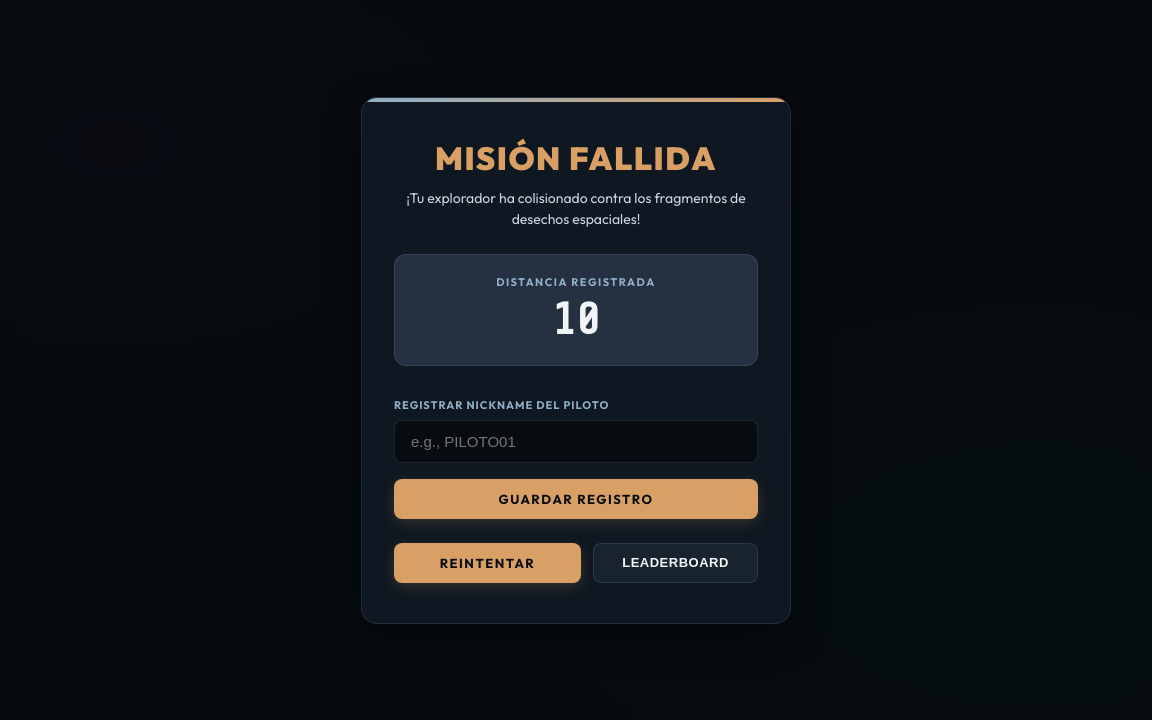
Test case: <GameOverModal /> › does not fall back on VALIDATION errors
Type "VALIDATED" into the field labelled "Registrar Nickname del Piloto" at (576, 441), box [394,420,758,462]
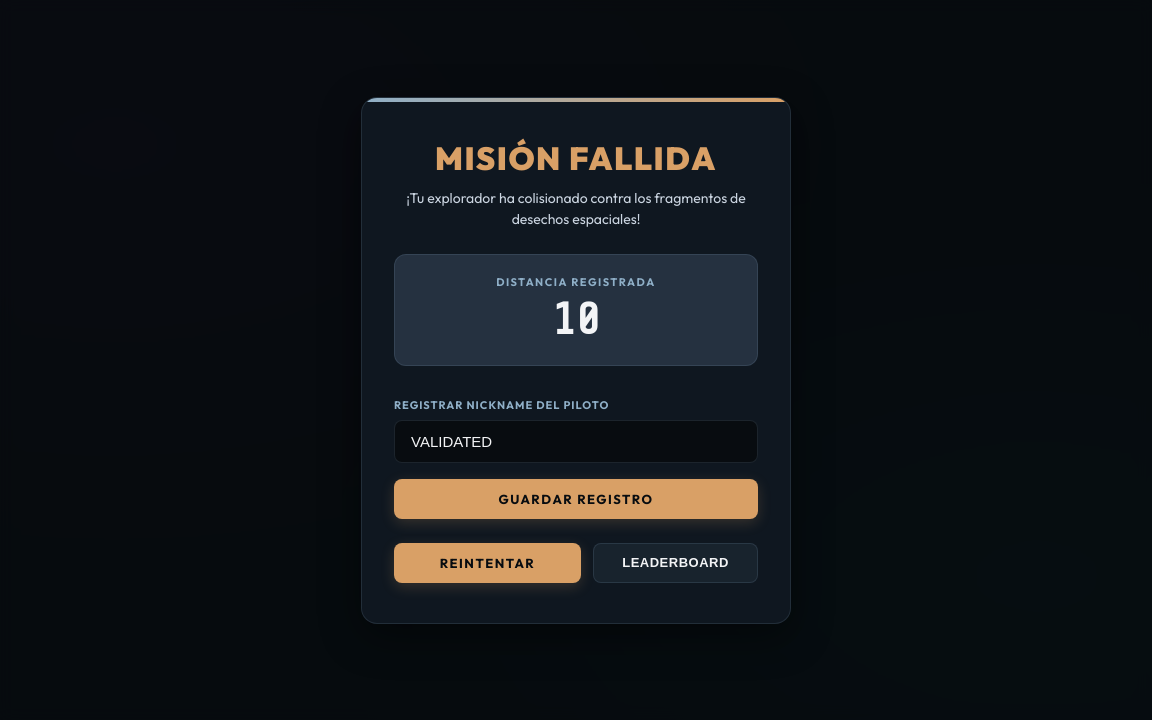
Click the button "Guardar Registro" at (576, 498), box [394,478,758,518]
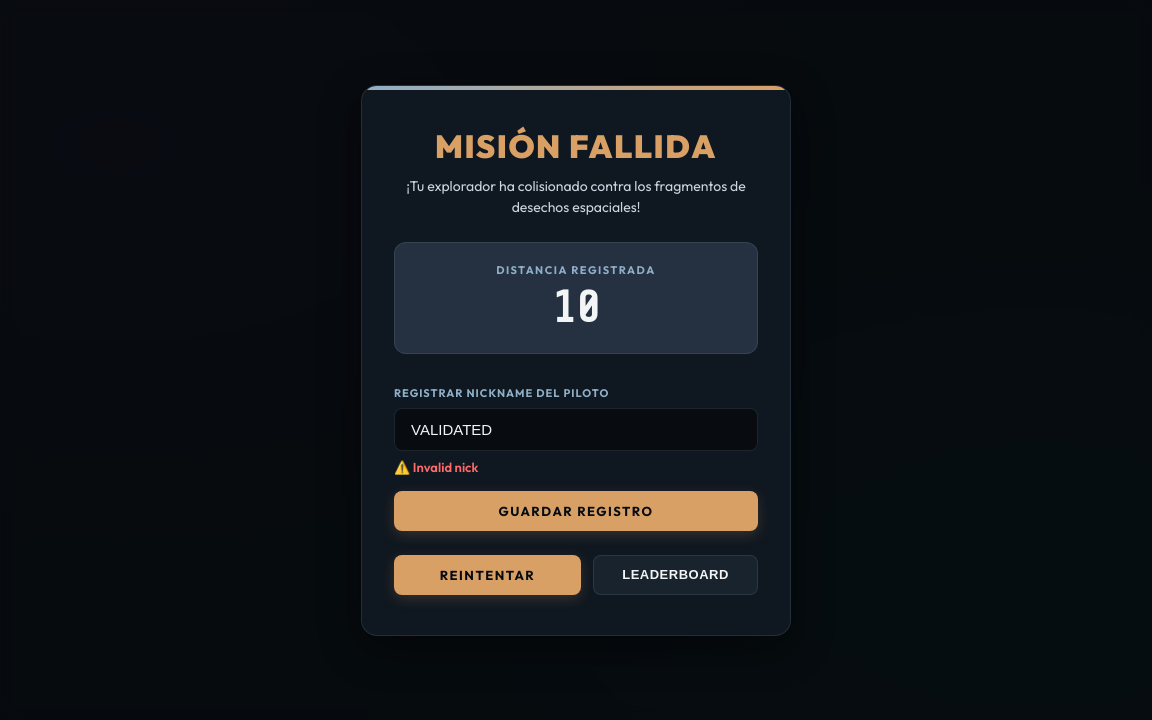
Expected: the text with test id "error-message" shows "Invalid nick", [413,458,478,474]
